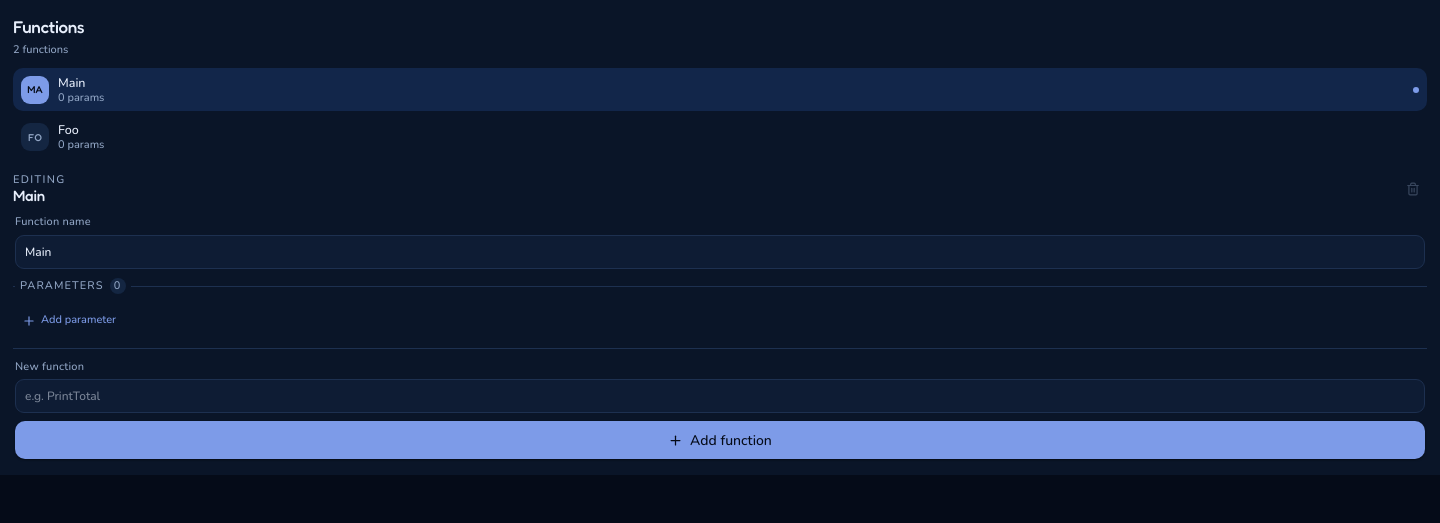
Test: duplicate function names are blocked
Type "Foo" into the field labelled "New function" at (720, 396), box x1=15 y1=379 x2=1425 y2=413
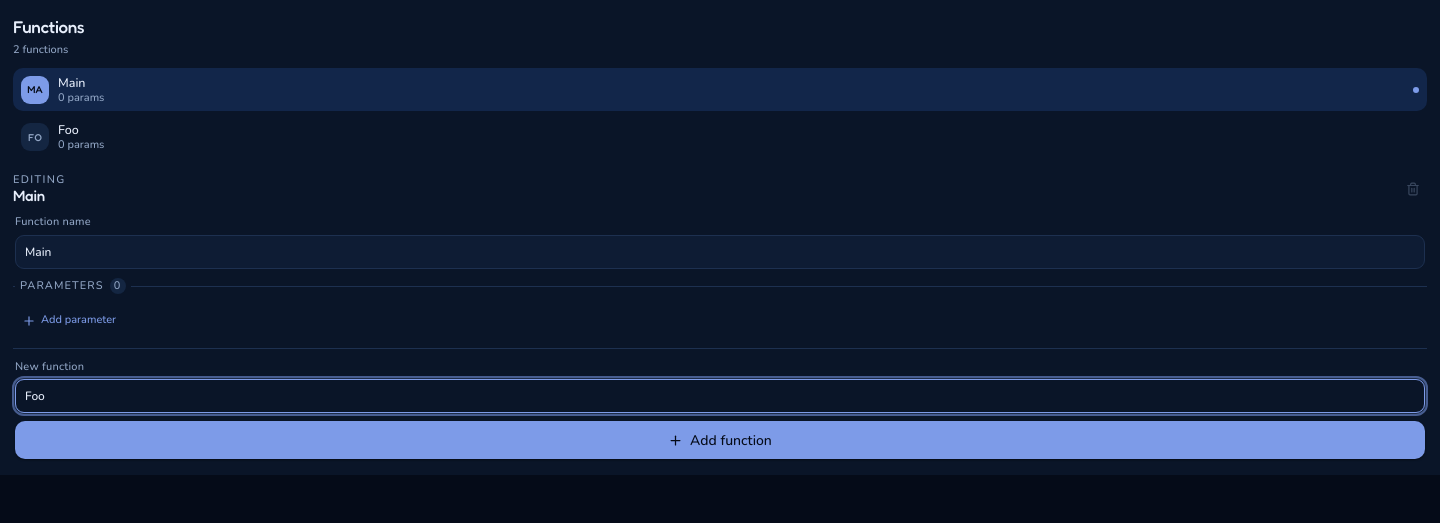
Click the button "Add function" at (720, 440), box x1=15 y1=421 x2=1425 y2=459
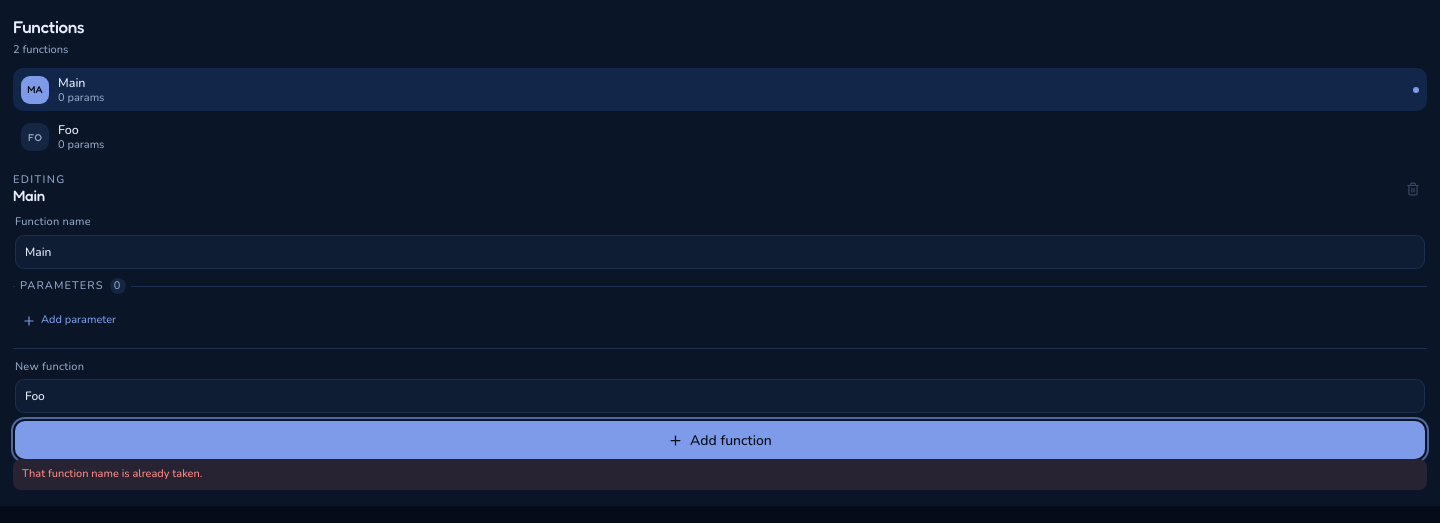
Check: the message shows "already taken", box x1=22 y1=466 x2=202 y2=481
